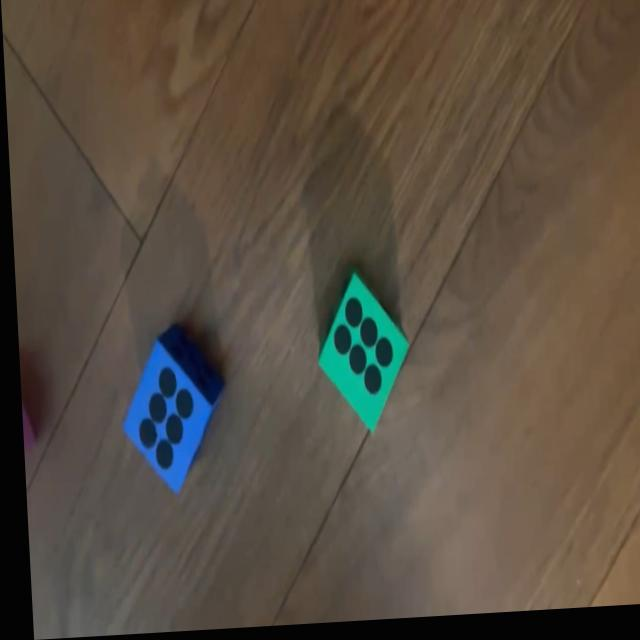cube: (116, 319, 223, 498), (310, 273, 408, 442)
